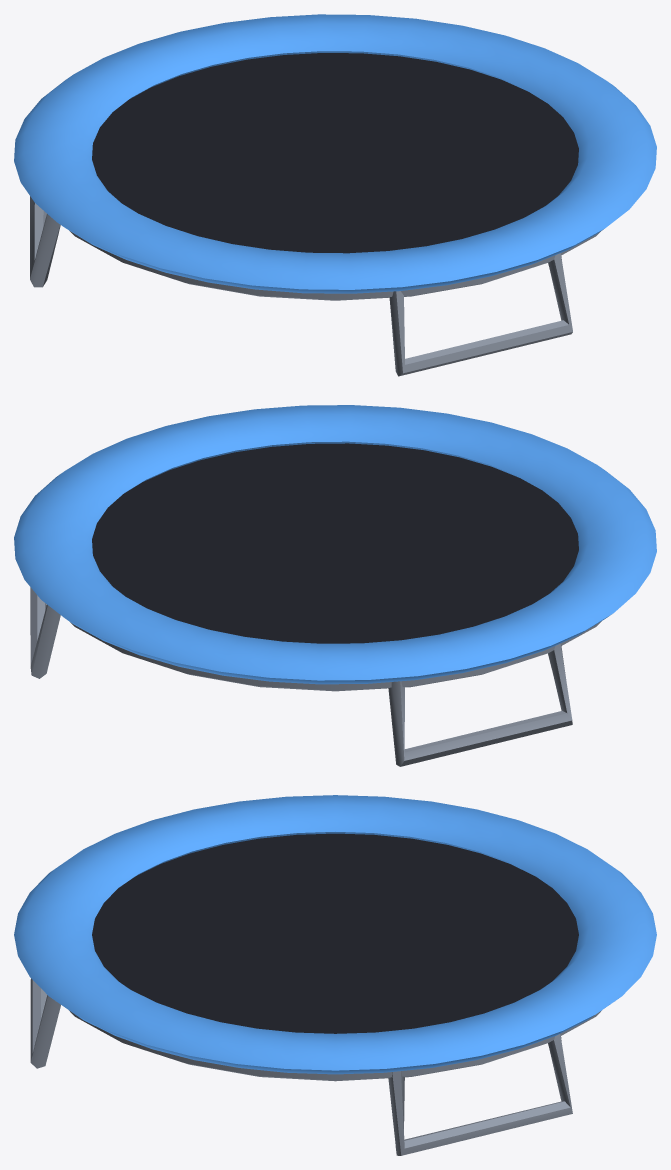
The model's file is Trampoline.fbx.
3 views of the same model, one above another, from view 1: azimuth 30°, elevation 25°; view 2: azimuth 150°, elevation 25°; view 3: azimuth 270°, elevation 25° (orthographic).
Parts seen in each view (by area): view 1: Trampoline; view 2: Trampoline; view 3: Trampoline.
Boxes of the visible parts, x1=… form: Trampoline: x1=14, y1=14, x2=656, y2=376; Trampoline: x1=14, y1=405, x2=656, y2=766; Trampoline: x1=14, y1=795, x2=656, y2=1155.
Size of the model in its own units: 3.3 by 0.5814 by 3.3.
